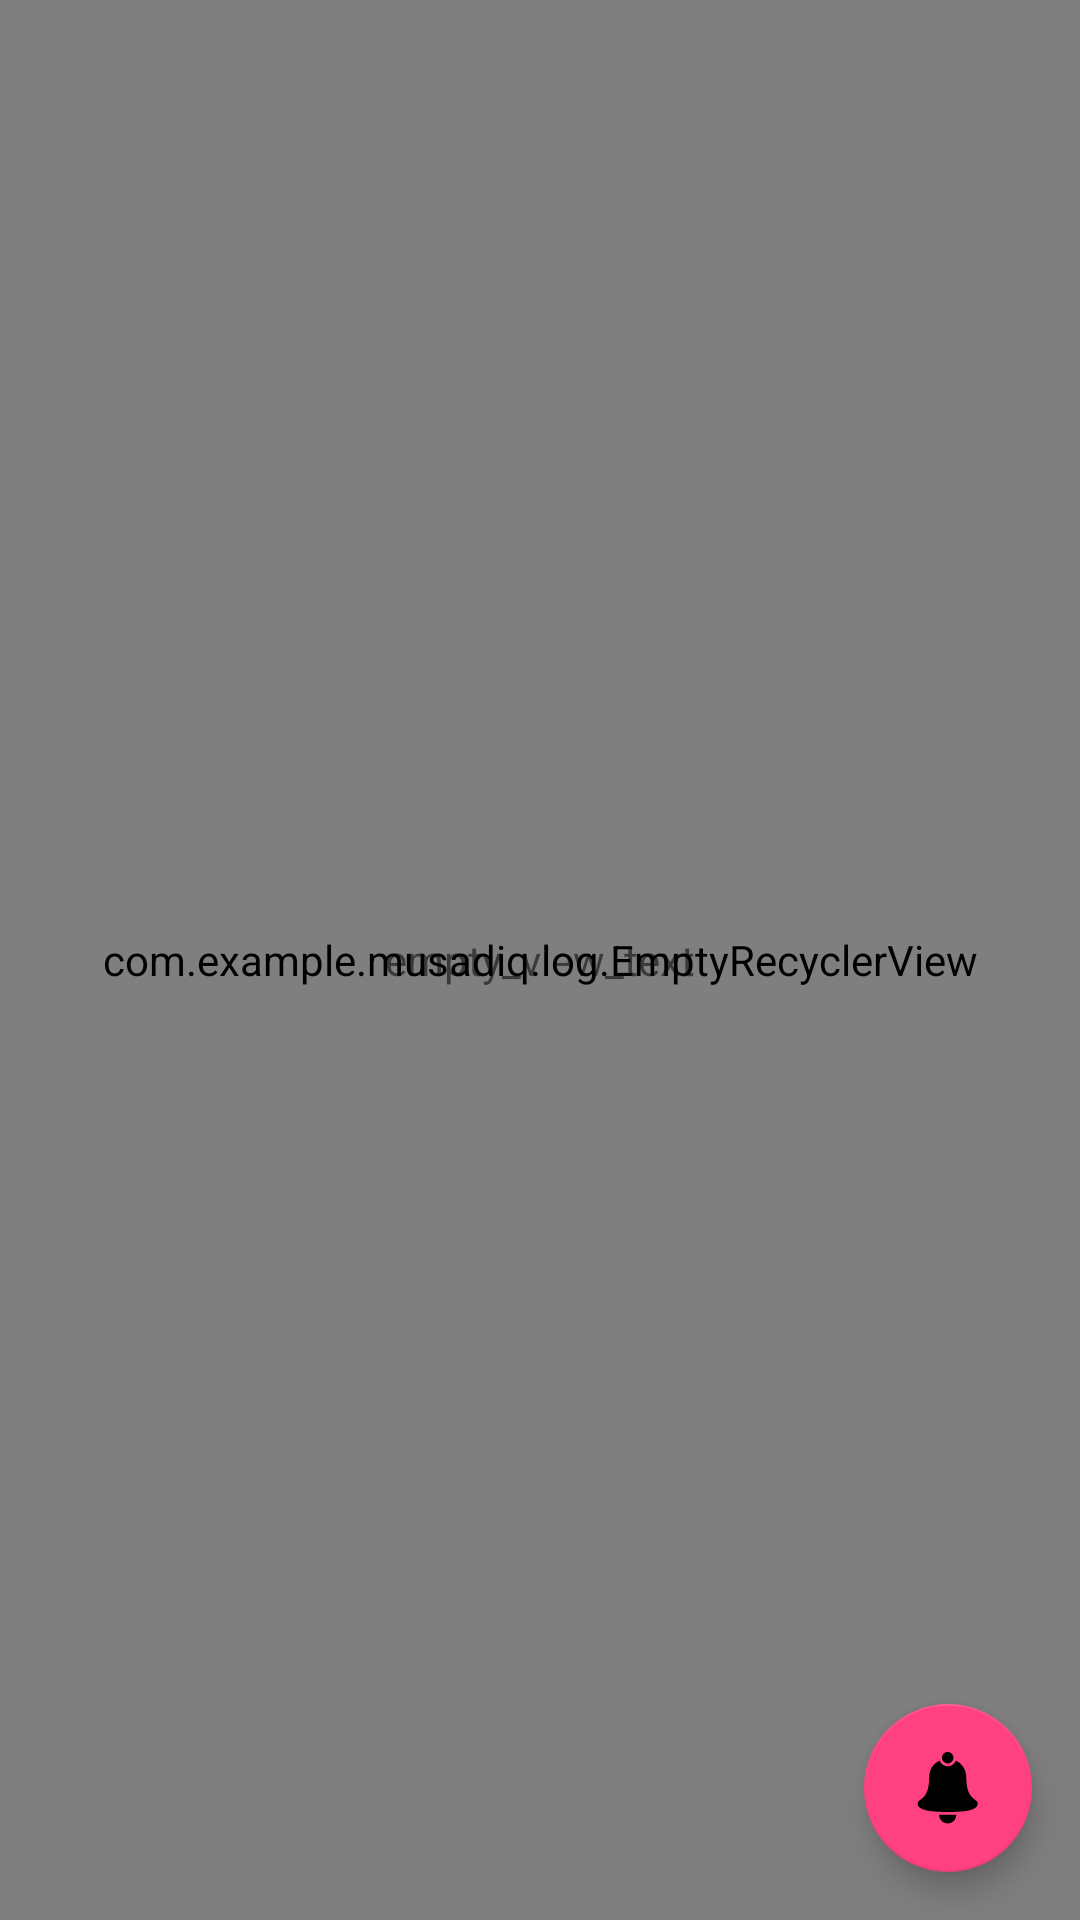

Icon bounding boxes for this 1080w x 1920h phone screenshot, format (x1, y1, x2, y2):
notification: (864, 1704, 1032, 1872)
